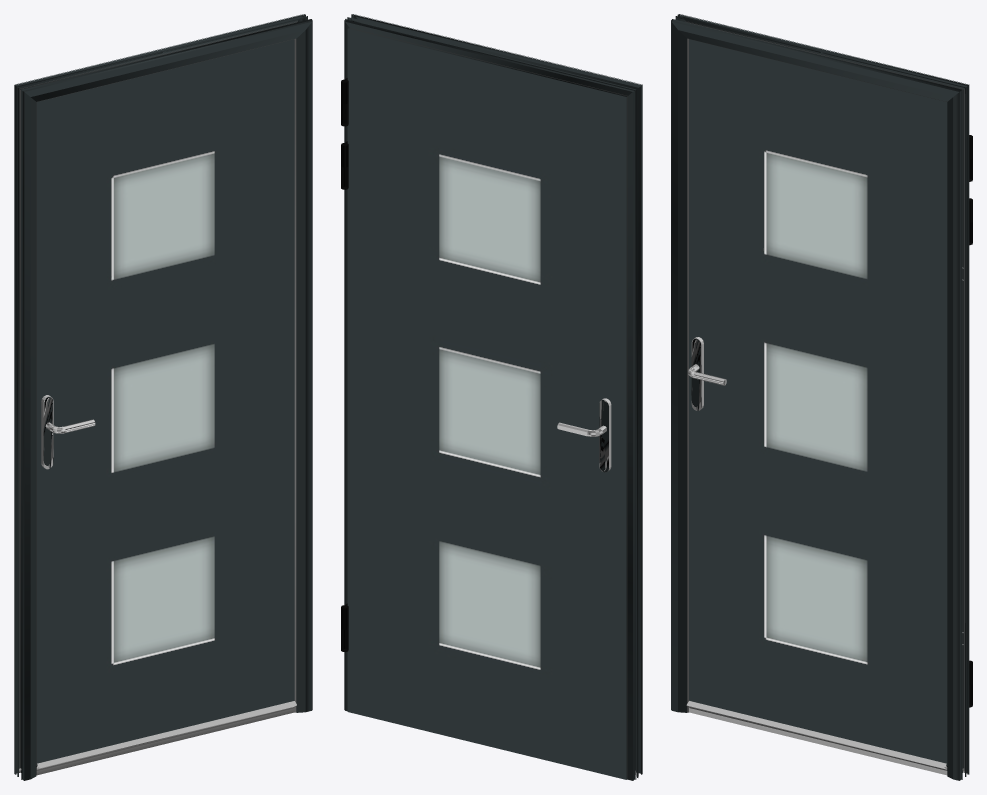
3 views of the same model, side by side, from view 1: azimuth 30°, elevation 25°; view 2: azimuth 150°, elevation 25°; view 3: azimuth 330°, elevation 25° (orthographic).
Parts seen in each view (by area): view 1: ouvrant, 50, puxador; view 2: ouvrant, 50, puxador; view 3: ouvrant, 50, puxador.
Part boxes in pixels (x1=…): ouvrant: x1=19, y1=21, x2=297, y2=770; 50: x1=14, y1=14, x2=312, y2=780; puxador: x1=41, y1=395, x2=53, y2=469; ouvrant: x1=341, y1=28, x2=627, y2=779; 50: x1=341, y1=14, x2=642, y2=780; puxador: x1=599, y1=398, x2=611, y2=472; ouvrant: x1=685, y1=21, x2=972, y2=770; 50: x1=671, y1=14, x2=972, y2=780; puxador: x1=691, y1=337, x2=703, y2=410.
Size of the model in its own units: 96 by 218 by 19.09.
1 material, 1 textured.
